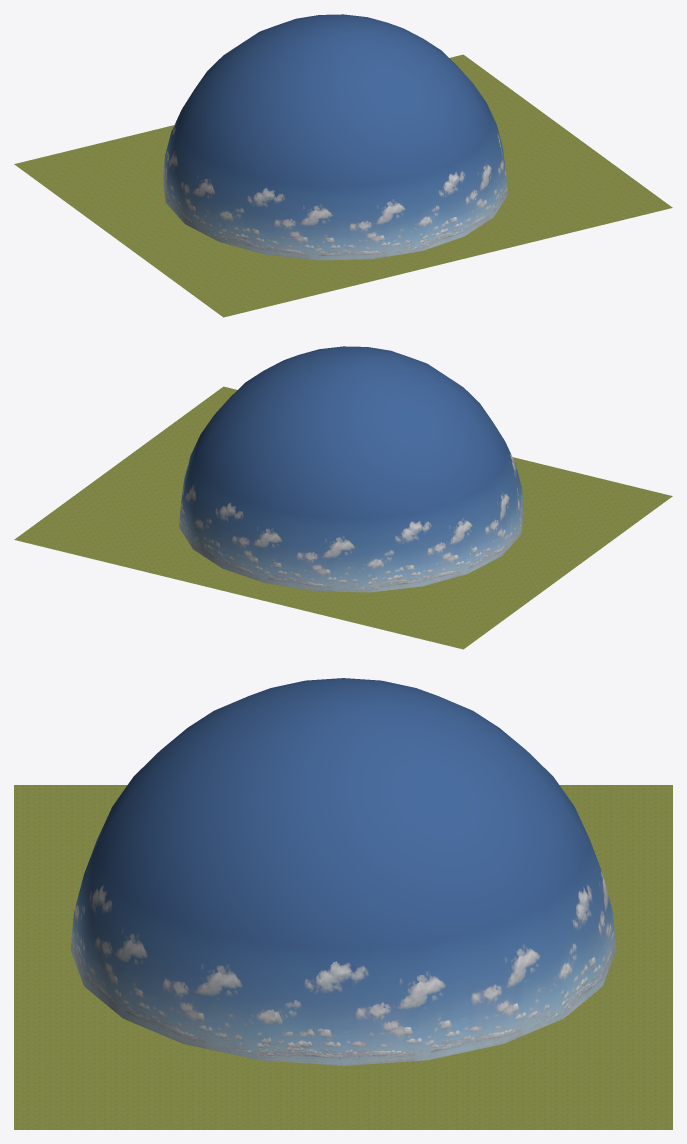
File: ShootingRange.dae
3 views of the same model, one above another, from view 1: azimuth 30°, elevation 25°; view 2: azimuth 150°, elevation 25°; view 3: azimuth 270°, elevation 25° (orthographic). The views are drawn at different scales.
Parts seen in each view (by area): view 1: sky, grass; view 2: sky, grass; view 3: sky, grass.
Boxes of the visible parts, box(x1,y1,x2,y2) form: sky: box(163, 14, 507, 260); grass: box(14, 54, 672, 317); sky: box(179, 346, 523, 592); grass: box(14, 386, 672, 649); sky: box(70, 678, 616, 1065); grass: box(14, 785, 672, 1129).
Size of the model in its own units: 457 by 154 by 369.
12 materials, 12 textured.
